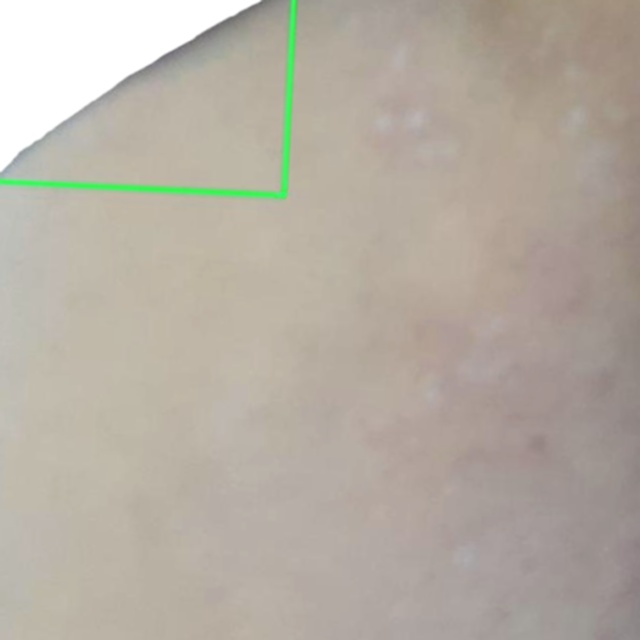Tinea Corporis: (0, 0, 293, 197)
